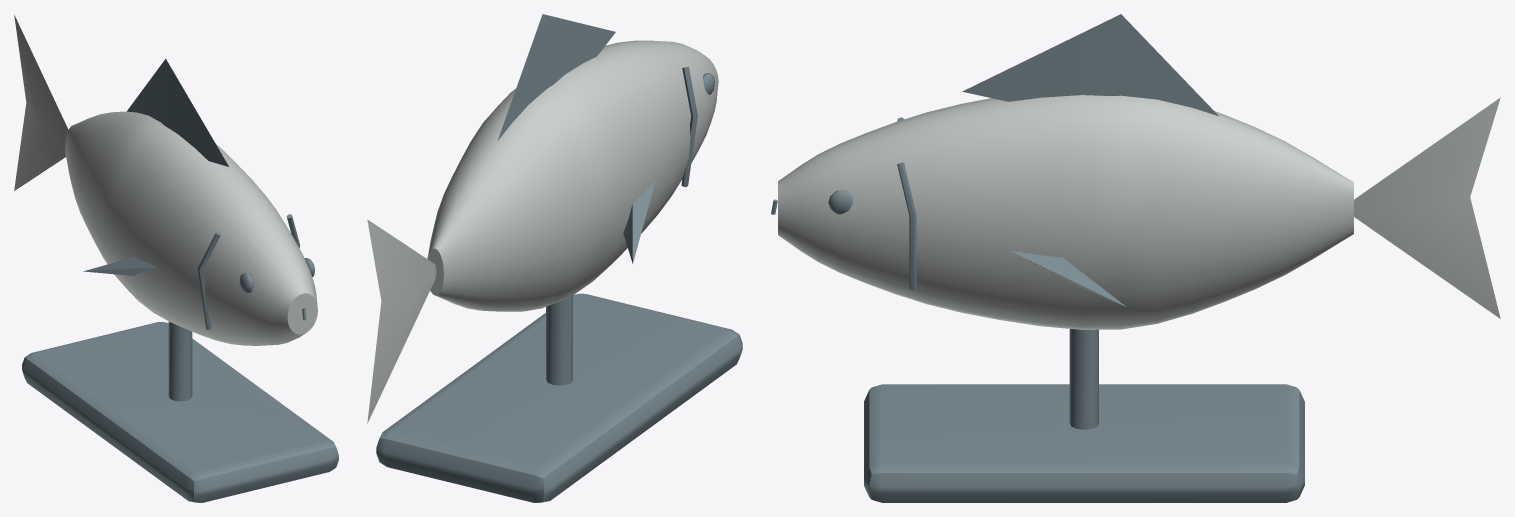
Rendered from fish.glb.
The picture shows the model from 3 angles, left to right: view 1: azimuth 30°, elevation 25°; view 2: azimuth 150°, elevation 25°; view 3: azimuth 270°, elevation 25°; orthographic projection. The views are drawn at different scales.
Visible parts, largest first — view 1: fish_body, display_base, tail_fin, dorsal_fin, display_post, pectoral_fin, gill_arc; view 2: fish_body, display_base, tail_fin, dorsal_fin, display_post, pectoral_fin, gill_arc; view 3: fish_body, display_base, tail_fin, dorsal_fin, display_post, pectoral_fin.001, gill_arc.001.
Part boxes in pixels (left/top/right/bottom): fish_body: left=65, top=111, right=317, bottom=345; display_base: left=22, top=322, right=338, bottom=502; tail_fin: left=14, top=15, right=68, bottom=190; dorsal_fin: left=127, top=59, right=228, bottom=166; display_post: left=168, top=321, right=192, bottom=401; pectoral_fin: left=83, top=257, right=156, bottom=275; gill_arc: left=197, top=232, right=220, bottom=329; fish_body: left=427, top=40, right=718, bottom=311; display_base: left=376, top=293, right=742, bottom=502; tail_fin: left=367, top=219, right=436, bottom=423; dorsal_fin: left=497, top=14, right=615, bottom=141; display_post: left=546, top=295, right=572, bottom=385; pectoral_fin: left=623, top=179, right=655, bottom=263; gill_arc: left=681, top=67, right=697, bottom=186; fish_body: left=778, top=95, right=1353, bottom=329; display_base: left=864, top=384, right=1304, bottom=502; tail_fin: left=1354, top=97, right=1500, bottom=318; dorsal_fin: left=962, top=14, right=1218, bottom=116; display_post: left=1069, top=329, right=1098, bottom=429; pectoral_fin.001: left=1009, top=250, right=1125, bottom=306; gill_arc.001: left=897, top=162, right=916, bottom=289.
Bounding box in the file's own units: 0.19 × 0.405 × 0.5957.
